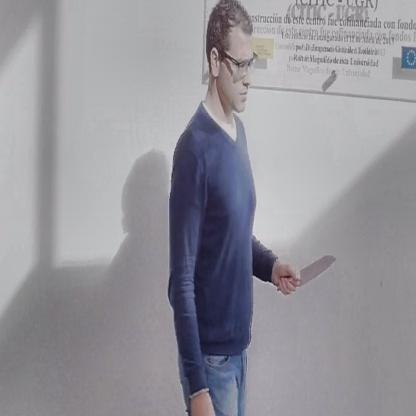knife: (272, 253, 342, 297)
